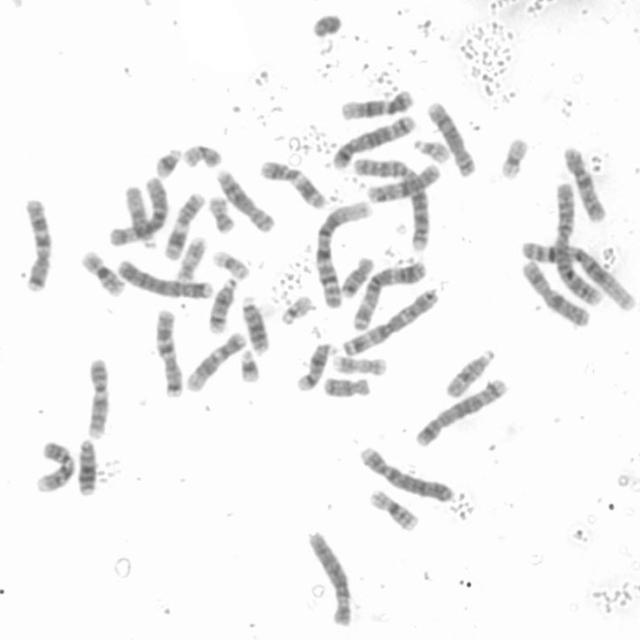A1: (520, 239, 638, 314), (314, 198, 371, 309)
A2: (353, 157, 430, 254), (552, 181, 606, 309)
A3: (340, 286, 440, 358), (351, 258, 429, 332)
B4: (360, 445, 455, 504), (116, 258, 214, 301)
B5: (414, 378, 510, 448), (332, 114, 416, 171)
C10: (562, 146, 608, 224), (364, 161, 441, 207)
C11: (258, 160, 326, 210), (163, 192, 206, 263)
C12: (185, 331, 246, 395), (338, 89, 415, 121)
C6: (305, 530, 355, 628), (108, 176, 170, 247)
C7: (155, 306, 185, 398), (23, 198, 52, 293)
C8: (424, 100, 479, 178), (217, 167, 277, 233)
C9: (34, 440, 75, 492), (86, 357, 110, 440)
D13: (238, 294, 272, 356), (76, 438, 98, 498)
D14: (296, 341, 337, 393), (206, 278, 237, 335)
D15: (443, 346, 497, 400), (125, 185, 158, 251)
E16: (370, 488, 420, 534), (80, 250, 126, 299)
E17: (175, 235, 208, 283), (332, 352, 389, 378)
E18: (340, 254, 375, 298), (322, 376, 373, 399)
F19: (500, 136, 530, 181), (212, 250, 250, 280)
F20: (180, 142, 224, 171), (208, 194, 236, 234)
G21: (153, 148, 183, 181), (238, 348, 262, 384)
G22: (279, 293, 314, 328), (412, 137, 451, 166)
X: (520, 261, 592, 328)
Y: (312, 13, 344, 38)
